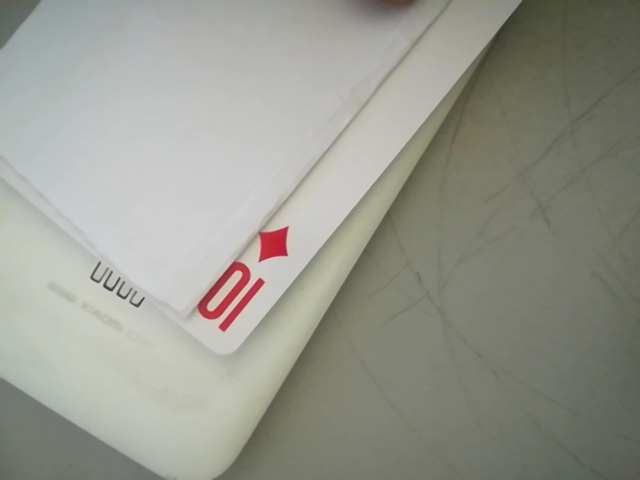fk 10: (187, 220, 306, 349)
